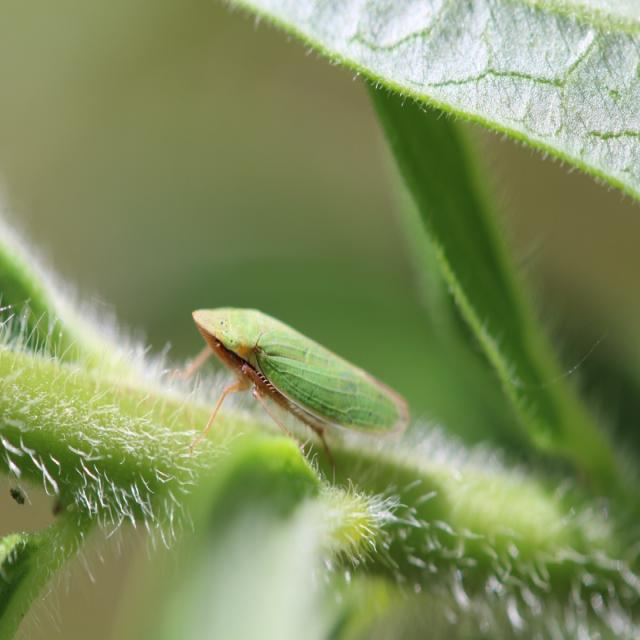Yechan: (174, 288, 426, 467)
